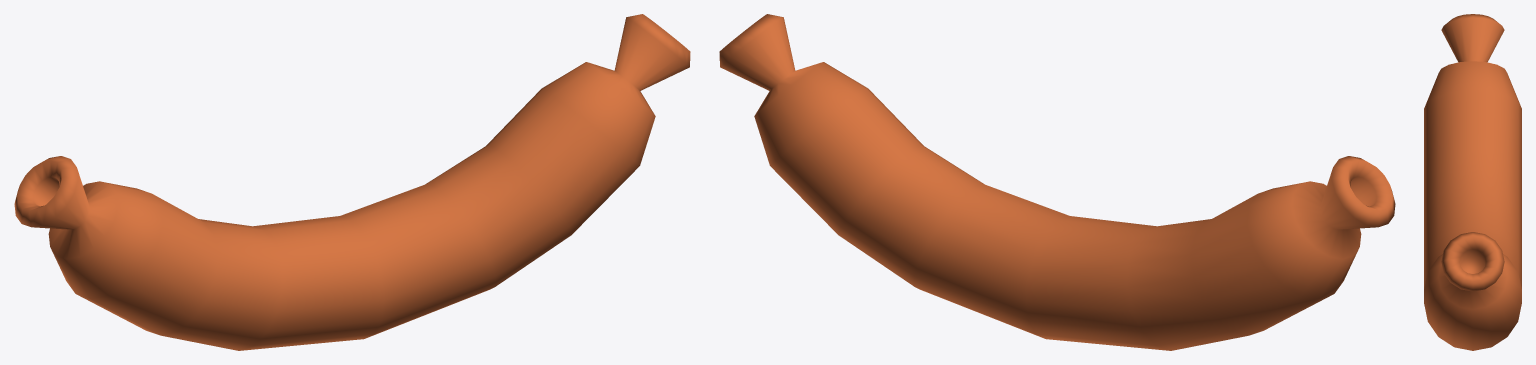
The model's file is Wurst.fbx.
The picture shows the model from 3 angles, left to right: view 1: azimuth 30°, elevation 25°; view 2: azimuth 150°, elevation 25°; view 3: azimuth 270°, elevation 25°; orthographic projection. The views are drawn at different scales.
Visible parts, largest first — view 1: Wurst; view 2: Wurst; view 3: Wurst.
Part boxes in pixels (box(x1,y1,x2,y2)): Wurst: box(14, 14, 690, 350); Wurst: box(719, 14, 1395, 350); Wurst: box(1424, 14, 1521, 350).
Bounding box in the file's own units: 1215 × 200 × 429.
